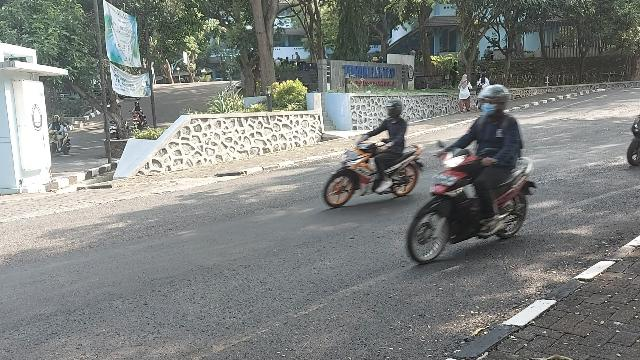helm: (477, 85, 509, 117), (387, 100, 404, 118)
motor: (407, 142, 539, 267), (324, 137, 425, 209)
